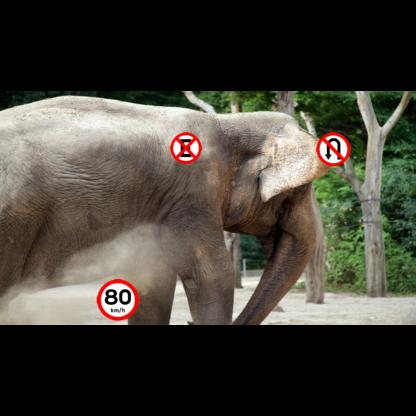R-19: (97, 279, 139, 321)
R-5a: (316, 132, 350, 166)
R-6c: (170, 132, 202, 164)
